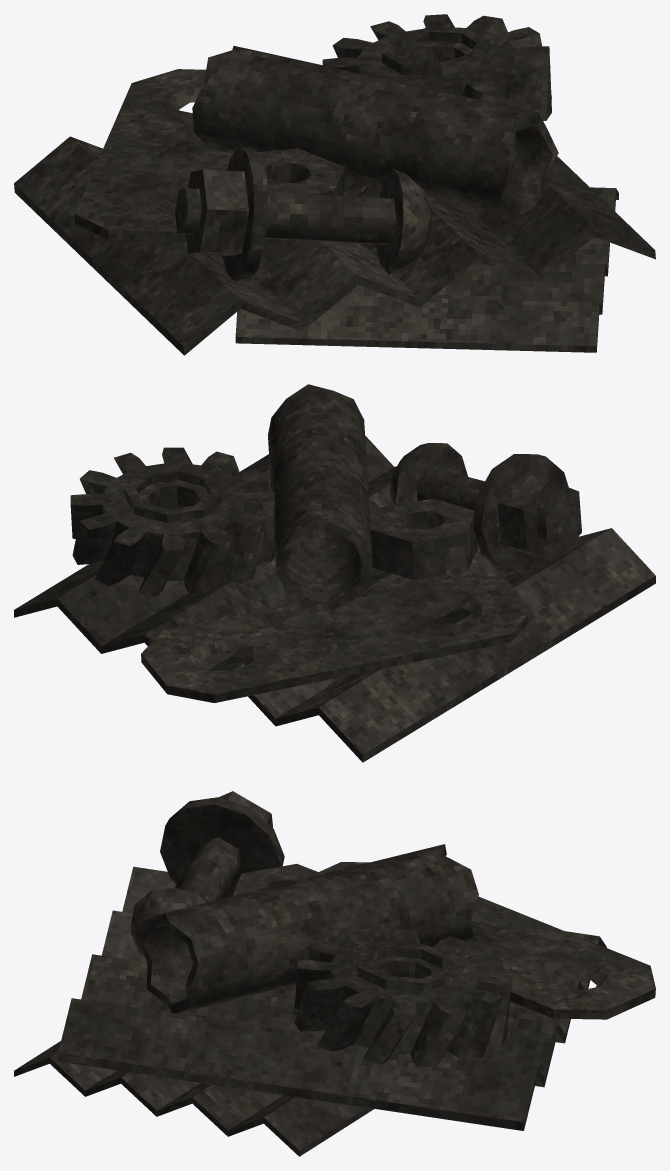
Rendered from scrap_metal_mx_1_1.glb.
The picture shows the model from 3 angles, top to bottom: view 1: azimuth 30°, elevation 25°; view 2: azimuth 150°, elevation 25°; view 3: azimuth 270°, elevation 25°; orthographic projection. The views are drawn at different scales.
Visible parts, largest first — view 1: scrap_metal_mx_1_1; view 2: scrap_metal_mx_1_1; view 3: scrap_metal_mx_1_1.
Part boxes in pixels (x1,y1,x2,y2): scrap_metal_mx_1_1: [14, 14, 655, 355]; scrap_metal_mx_1_1: [14, 384, 655, 762]; scrap_metal_mx_1_1: [14, 791, 655, 1156].
Size of the model in its own units: 0.3174 by 0.106 by 0.3591.
Materials: 1 (1 with a texture image).
